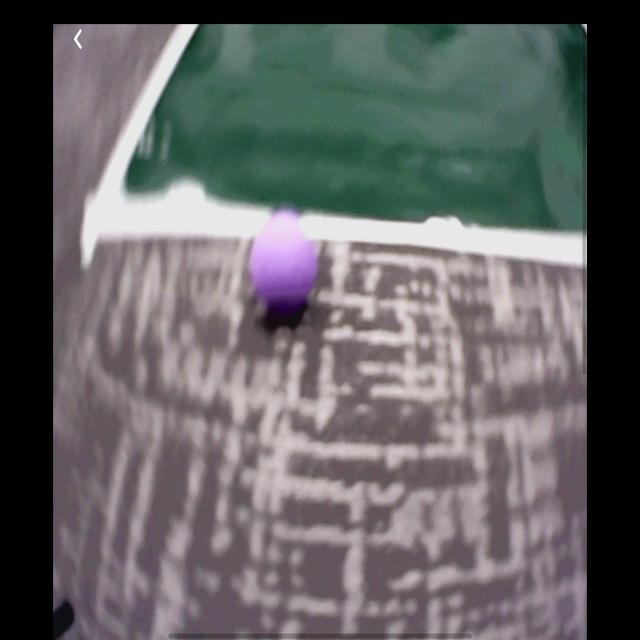ball: (248, 209, 320, 318)
